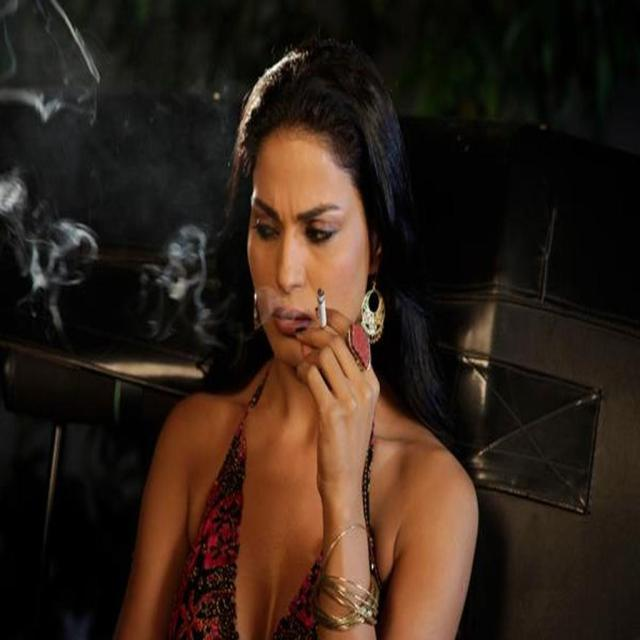smoking: (242, 42, 378, 473)
